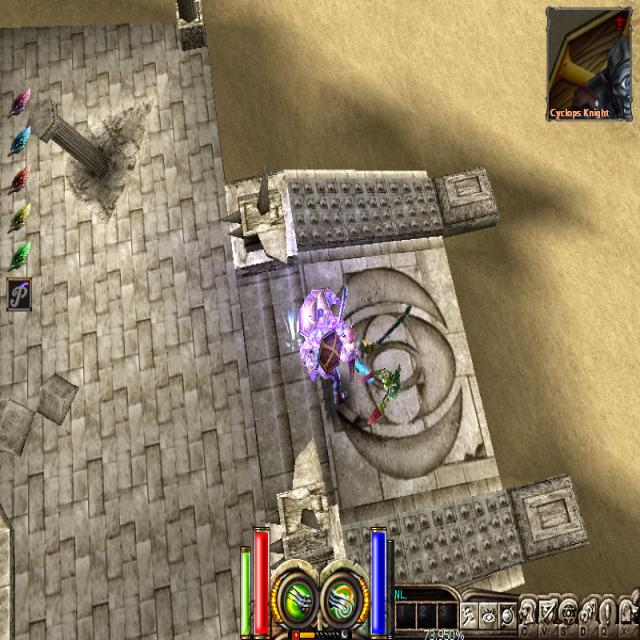monster: (369, 361, 402, 428), (308, 347, 346, 399), (299, 305, 324, 350), (314, 286, 338, 331)
